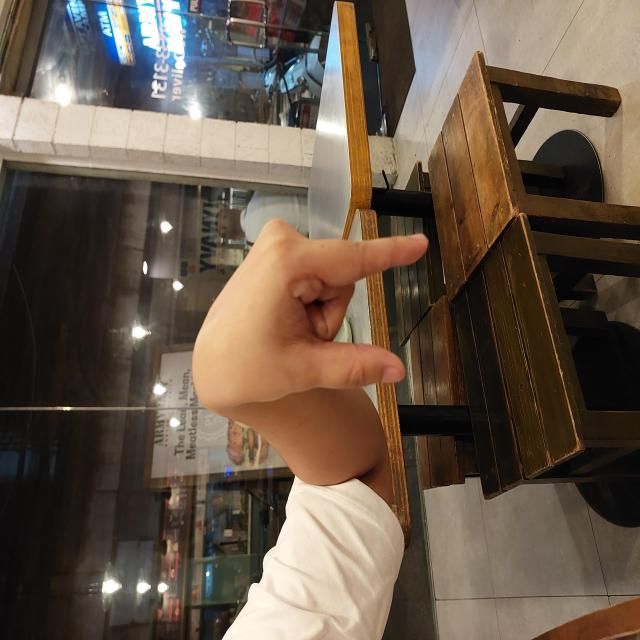Q: (234, 191, 423, 429)
